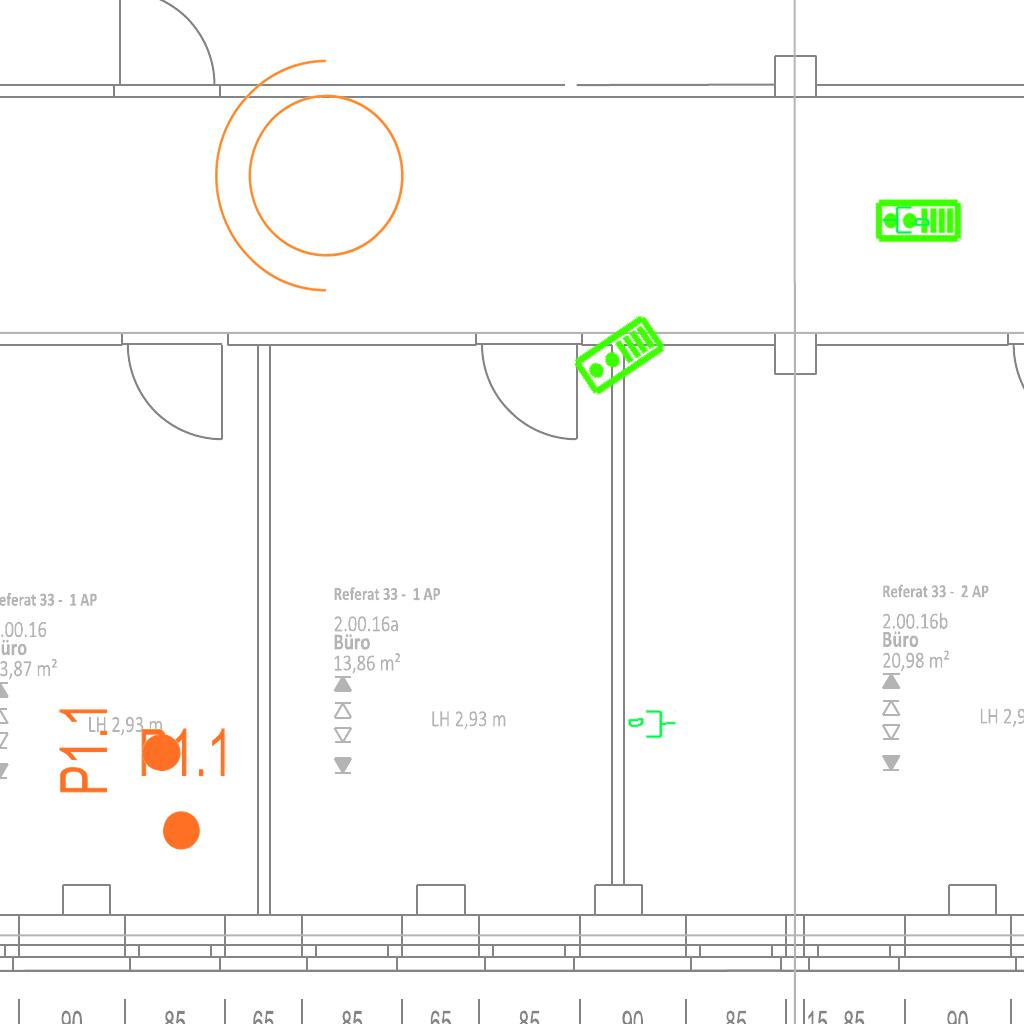Datenanschluss_einfach: (626, 707, 678, 743), (881, 202, 931, 236)
Downlight_LED_Einbauleuchten_Flur: (138, 725, 231, 853), (56, 703, 184, 796)
Gegensprechanlage_mit_Video: (569, 311, 670, 401), (874, 198, 962, 245)
Scheinwerfer_fuer_Alarmbeleuchtung: (204, 50, 429, 314)
